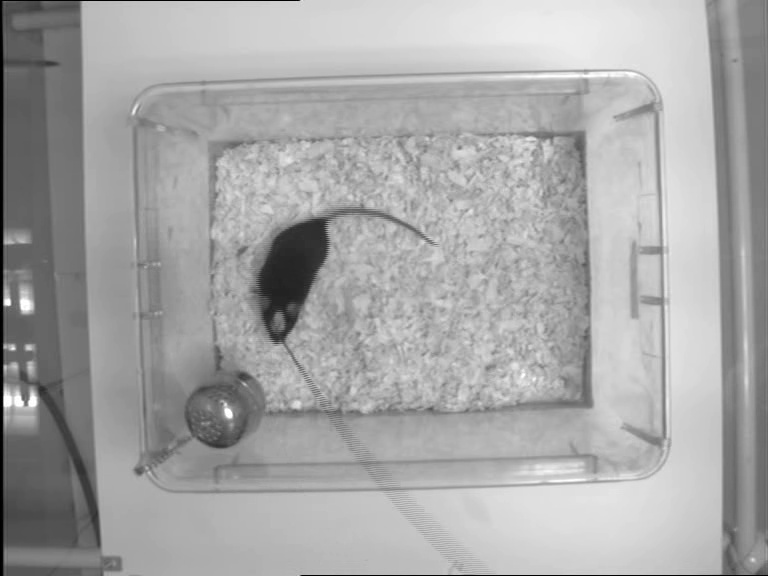mice: (262, 205, 437, 353)
